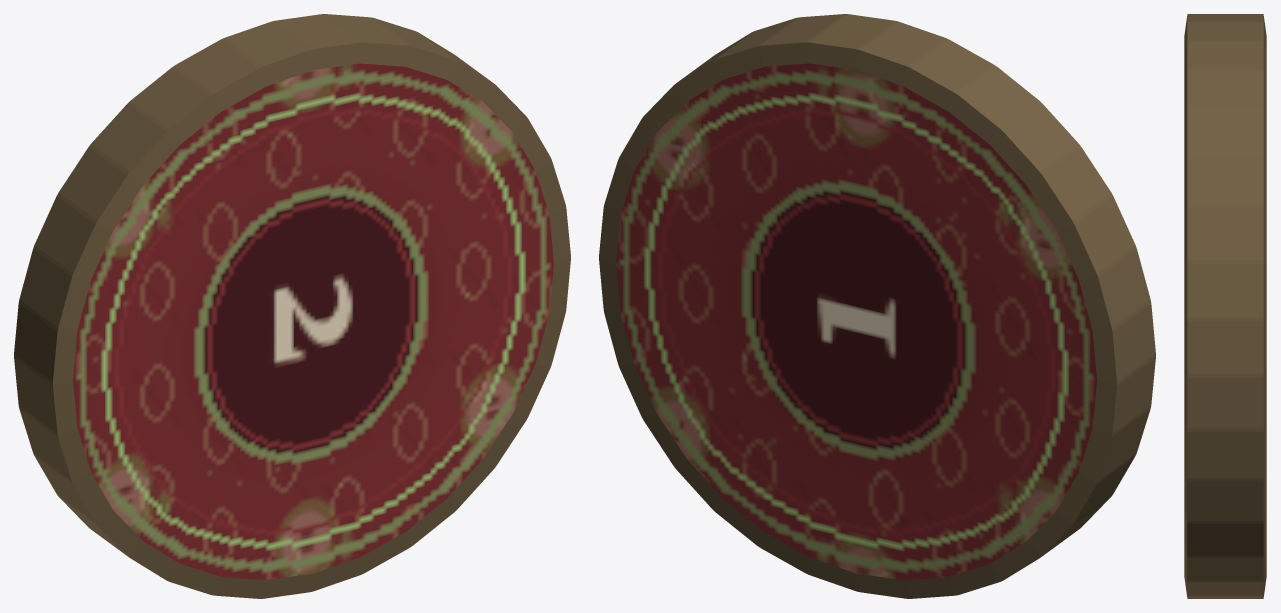
The picture shows the model from 3 angles, left to right: view 1: azimuth 30°, elevation 25°; view 2: azimuth 150°, elevation 25°; view 3: azimuth 270°, elevation 25°; orthographic projection. The views are drawn at different scales.
Size of the model in its own units: 101 by 101 by 14.14.
Materials: 1 (1 with a texture image).
